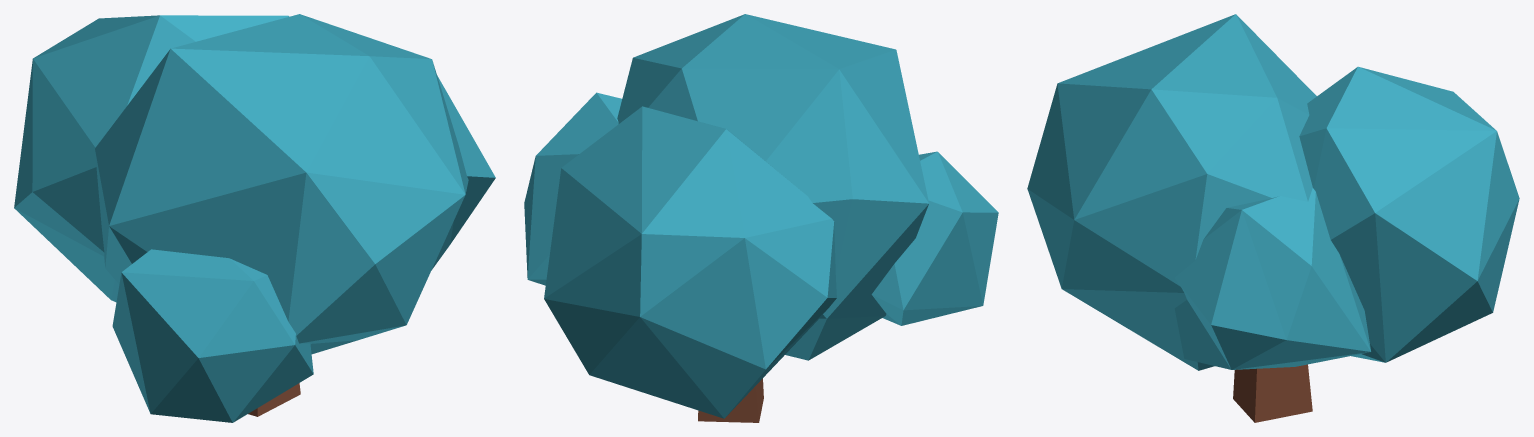
File: Bush_6_summer_blue_mat.fbx
3 views of the same model, side by side, from view 1: azimuth 30°, elevation 25°; view 2: azimuth 150°, elevation 25°; view 3: azimuth 270°, elevation 25° (orthographic). The views are drawn at different scales.
Visible parts, largest first — view 1: Bush_6_summer_blue_mat; view 2: Bush_6_summer_blue_mat; view 3: Bush_6_summer_blue_mat.
Boxes of the visible parts, left/top/right/bottom form: Bush_6_summer_blue_mat: left=14, top=14, right=495, bottom=422; Bush_6_summer_blue_mat: left=524, top=14, right=998, bottom=422; Bush_6_summer_blue_mat: left=1027, top=14, right=1519, bottom=422.
Bounding box in the file's own units: 30.85 × 27.54 × 35.35.
